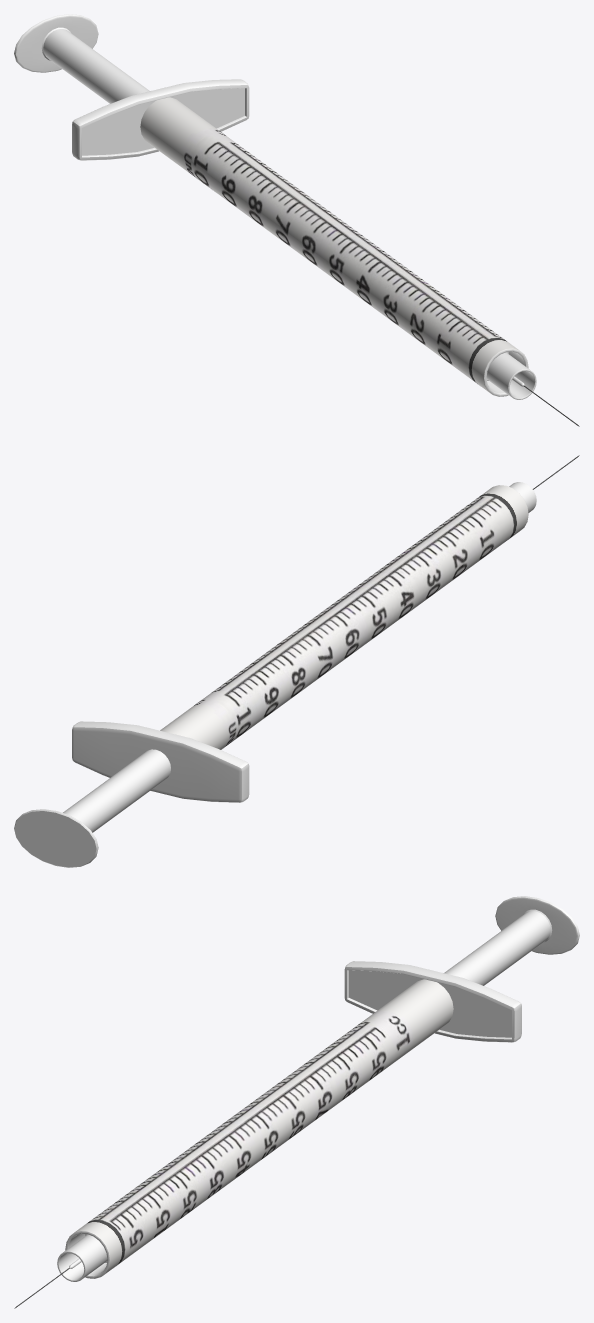
3 renders of one model, top to bottom at view 1: azimuth 30°, elevation 25°; view 2: azimuth 150°, elevation 25°; view 3: azimuth 330°, elevation 25°, orthographic.
Parts seen in each view (by area): view 1: syringe_v1_combined_mesh_result; view 2: syringe_v1_combined_mesh_result; view 3: syringe_v1_combined_mesh_result.
Part boxes in pixels (left/top/right/bottom): syringe_v1_combined_mesh_result: left=14, top=14, right=579, bottom=426; syringe_v1_combined_mesh_result: left=14, top=455, right=579, bottom=867; syringe_v1_combined_mesh_result: left=14, top=896, right=579, bottom=1308.
Bounding box in the file's own units: 4.63 × 1.49 × 24.4.
Materials: 1 (1 with a texture image).
